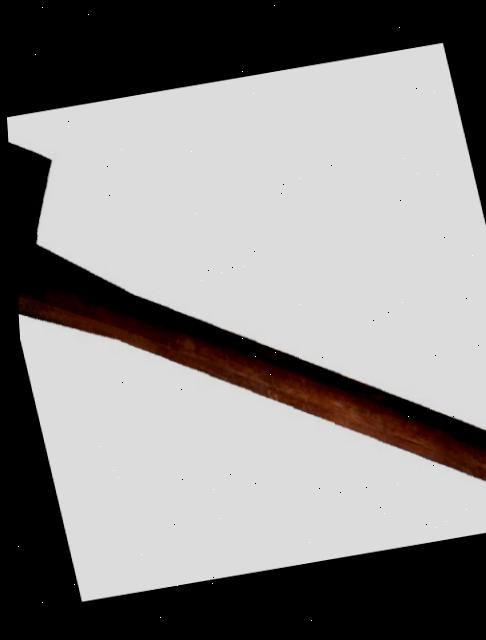hammer: (2, 38, 486, 604)
